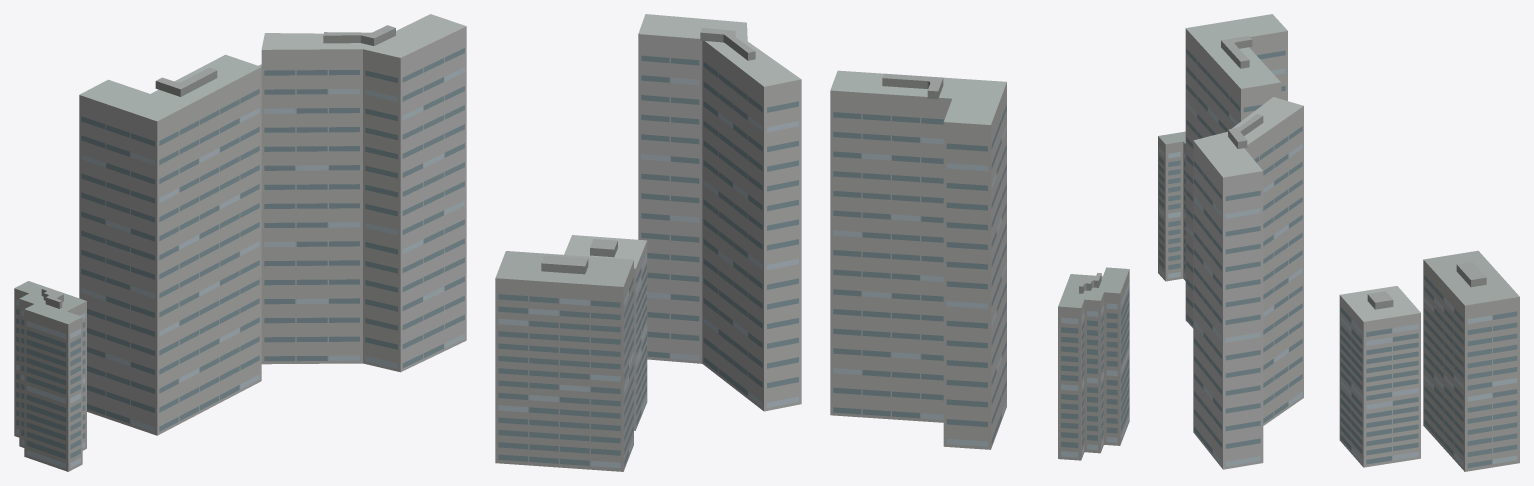
File: apt-a10024574.glb
3 views of the same model, side by side, from view 1: azimuth 30°, elevation 25°; view 2: azimuth 150°, elevation 25°; view 3: azimuth 270°, elevation 25° (orthographic). The views are drawn at different scales.
Parts seen in each view (by area): view 1: apt-a10024574; view 2: apt-a10024574; view 3: apt-a10024574.
Part boxes in pixels (box(x1,y1,x2,y2)): apt-a10024574: box(14, 14, 466, 471); apt-a10024574: box(495, 14, 1129, 471); apt-a10024574: box(1158, 14, 1519, 471).
Bounding box in the file's own units: 148 × 100 × 110.
